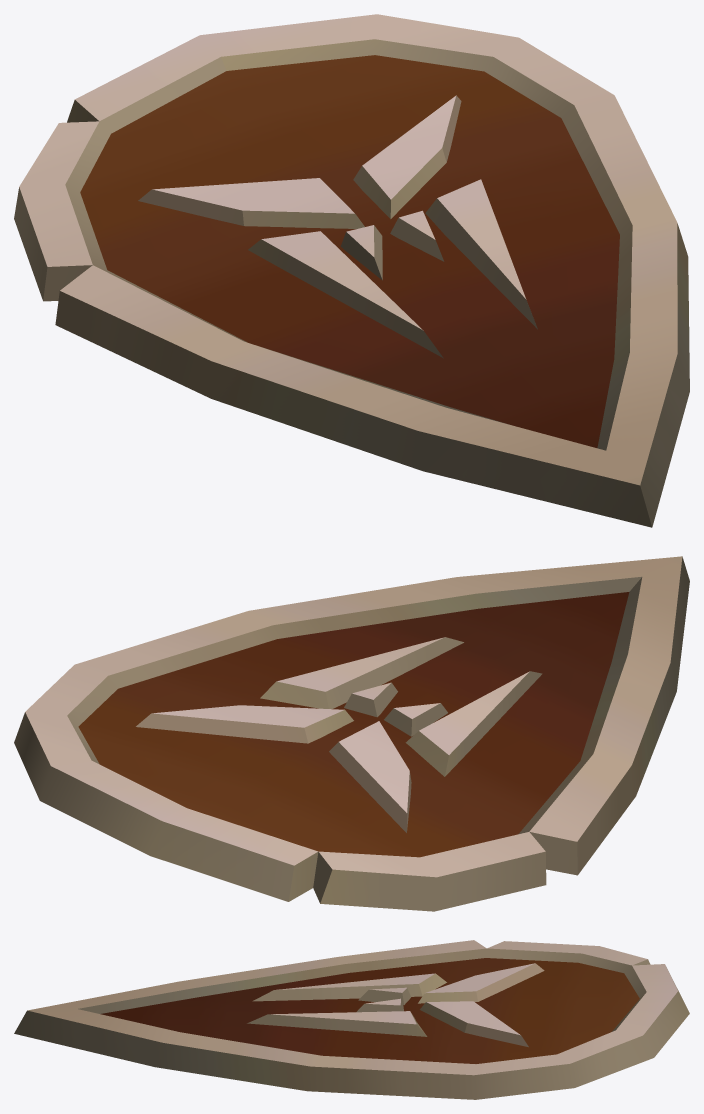
Rendered from shield05_brown.fbx.
The picture shows the model from 3 angles, top to bottom: view 1: azimuth 30°, elevation 25°; view 2: azimuth 150°, elevation 25°; view 3: azimuth 270°, elevation 25°; orthographic projection. The views are drawn at different scales.
Visible parts, largest first — view 1: shield05_brown; view 2: shield05_brown; view 3: shield05_brown.
Part boxes in pixels (x1,y1,x2,y2): shield05_brown: [14, 14, 689, 527]; shield05_brown: [14, 556, 689, 911]; shield05_brown: [14, 940, 689, 1099].
Size of the model in its own units: 0.7953 by 0.1475 by 1.28.
1 material, 1 textured.
